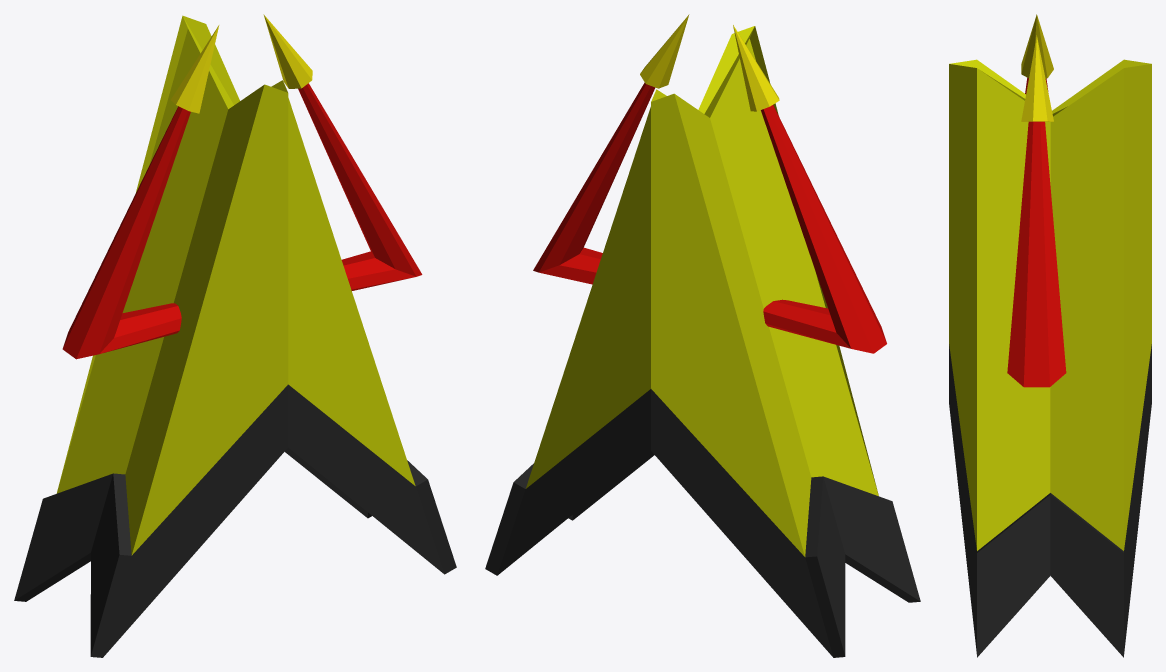
The model's file is runner.fbx.
3 views of the same model, side by side, from view 1: azimuth 30°, elevation 25°; view 2: azimuth 150°, elevation 25°; view 3: azimuth 270°, elevation 25° (orthographic). The views are drawn at different scales.
Visible parts, largest first — view 1: Cylinder; view 2: Cylinder; view 3: Cylinder.
Part boxes in pixels (left/top/right/bottom): Cylinder: left=14, top=14, right=456, bottom=657; Cylinder: left=485, top=14, right=920, bottom=657; Cylinder: left=949, top=14, right=1151, bottom=657.
Size of the model in its own units: 100 by 150 by 50.
